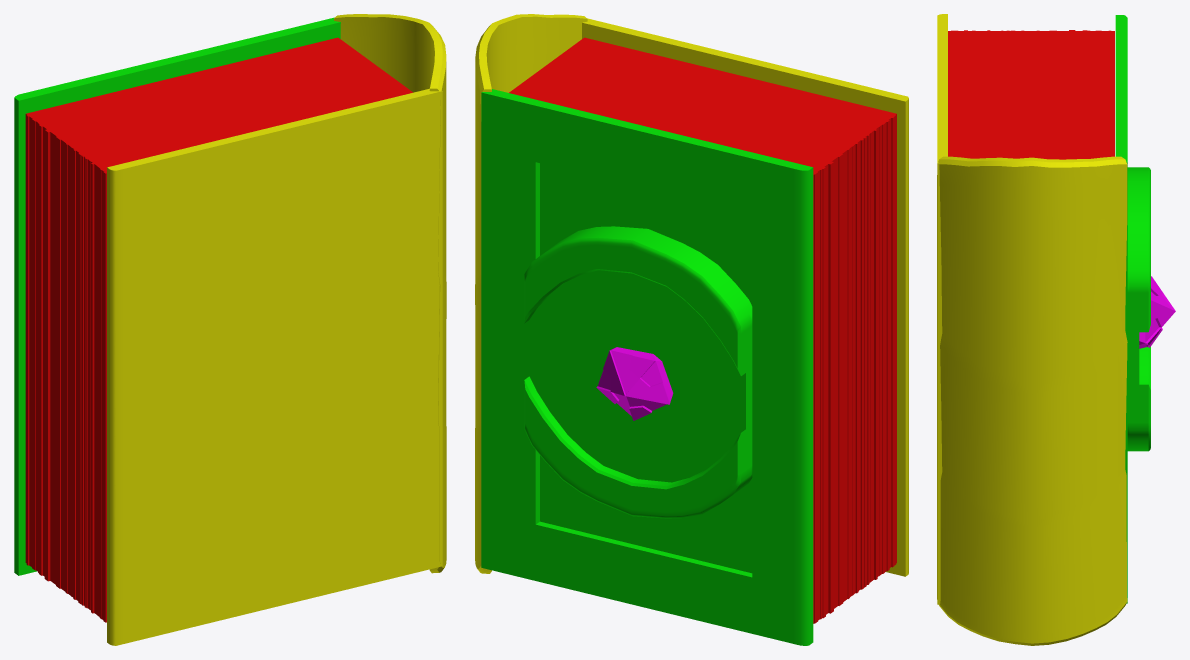
Rendered from bookLowPoly.fbx.
3 views of the same model, side by side, from view 1: azimuth 30°, elevation 25°; view 2: azimuth 150°, elevation 25°; view 3: azimuth 270°, elevation 25° (orthographic). The views are drawn at different scales.
Visible parts, largest first — view 1: polySurface2, polySurface5, polySurface4, polySurface3; view 2: polySurface4, polySurface5, polySurface2, polySurface3, polySurface1; view 3: polySurface3, polySurface5, polySurface4, polySurface2, polySurface1.
Boxes of the visible parts, <box> form: polySurface2: <box>107,88,442,645</box>; polySurface5: <box>25,37,412,622</box>; polySurface4: <box>14,17,340,575</box>; polySurface3: <box>334,14,446,573</box>; polySurface4: <box>481,89,813,645</box>; polySurface5: <box>509,37,896,623</box>; polySurface2: <box>582,18,908,576</box>; polySurface3: <box>475,14,587,573</box>; polySurface1: <box>596,347,673,420</box>; polySurface3: <box>937,156,1127,645</box>; polySurface5: <box>948,30,1114,159</box>; polySurface4: <box>1115,15,1150,603</box>; polySurface2: <box>937,14,947,604</box>; polySurface1: <box>1139,276,1175,348</box>.
Size of the model in its own units: 1.1 by 1.48 by 0.6585.
